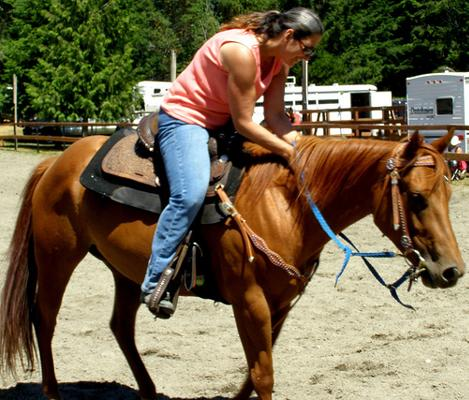person: (140, 8, 329, 320)
